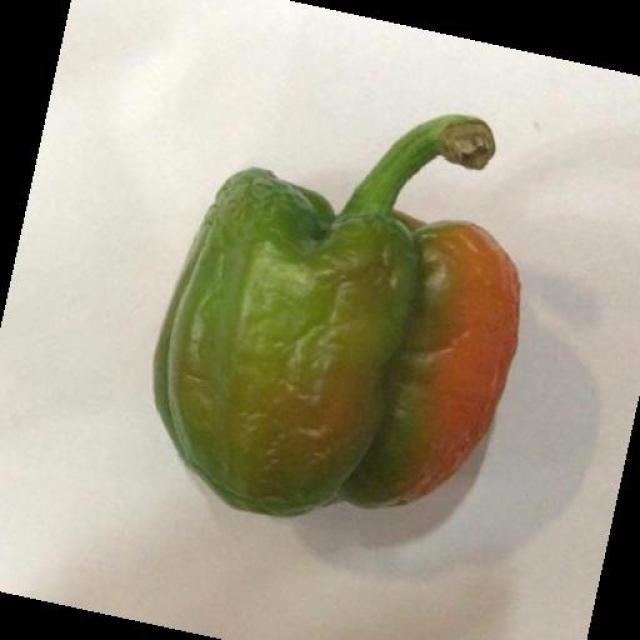Stale_Capsicum: (175, 105, 525, 515)
